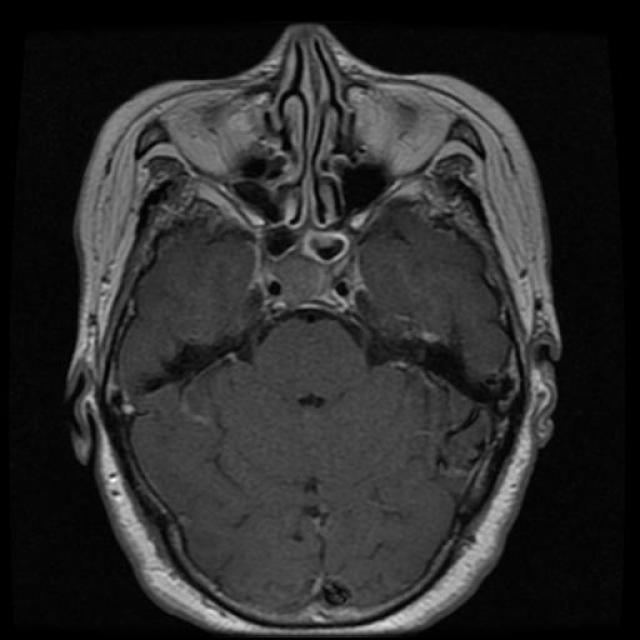Pituitary: (276, 255, 325, 306)
